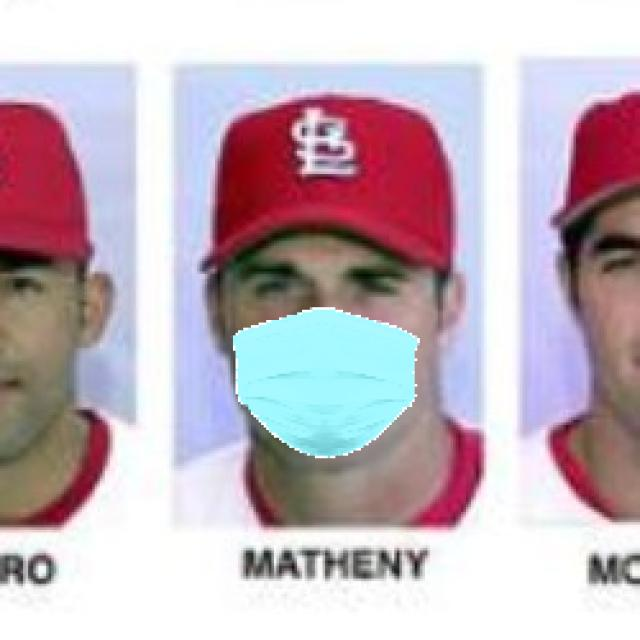mask: (219, 313, 443, 464)
